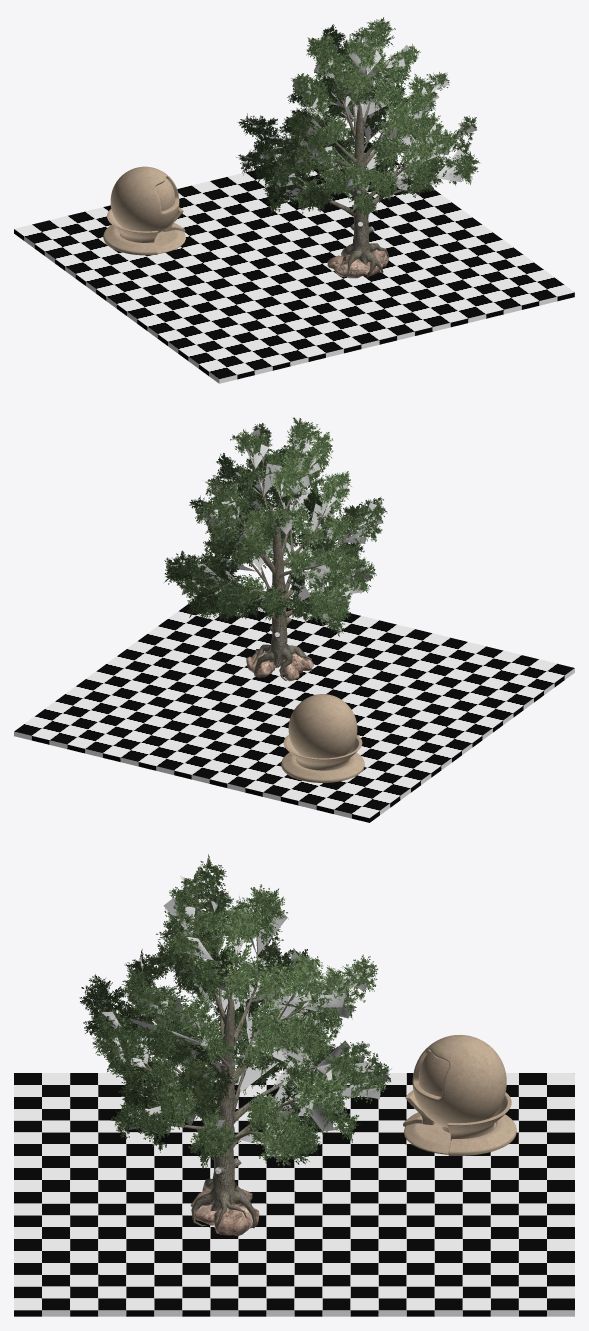
The picture shows the model from 3 angles, top to bottom: view 1: azimuth 30°, elevation 25°; view 2: azimuth 150°, elevation 25°; view 3: azimuth 270°, elevation 25°; orthographic projection. The views are drawn at different scales.
Parts seen in each view (by area): view 1: Podium, tree_SampleLeaves_1, tree_SampleLeaves_2, Mitsuba, tree_SampleBranches, tree_BroadleafBark, tree_Rocks_01; view 2: Podium, tree_SampleLeaves_1, tree_SampleLeaves_2, Mitsuba, tree_SampleBranches, tree_BroadleafBark, tree_Rocks_01; view 3: Podium, tree_SampleLeaves_1, tree_SampleLeaves_2, Mitsuba, tree_SampleBranches, tree_BroadleafBark, tree_Rocks_01.
Boxes of the visible parts, left/top/right/bottom form: Podium: left=14, top=142, right=574, bottom=383; tree_SampleLeaves_1: left=236, top=22, right=479, bottom=218; tree_SampleLeaves_2: left=243, top=17, right=478, bottom=214; Mitsuba: left=103, top=166, right=185, bottom=255; tree_SampleBranches: left=239, top=34, right=476, bottom=211; tree_BroadleafBark: left=261, top=32, right=461, bottom=280; tree_Rocks_01: left=327, top=249, right=388, bottom=278; Podium: left=14, top=588, right=574, bottom=822; tree_SampleLeaves_1: left=164, top=417, right=385, bottom=636; tree_SampleLeaves_2: left=164, top=422, right=387, bottom=625; Mitsuba: left=281, top=694, right=364, bottom=782; tree_SampleBranches: left=168, top=426, right=382, bottom=620; tree_BroadleafBark: left=204, top=438, right=359, bottom=680; tree_Rocks_01: left=246, top=651, right=313, bottom=681; Podium: left=14, top=1073, right=574, bottom=1316; tree_SampleLeaves_1: left=79, top=854, right=391, bottom=1168; tree_SampleLeaves_2: left=81, top=866, right=385, bottom=1167; Mitsuba: left=403, top=1034, right=516, bottom=1155; tree_SampleBranches: left=89, top=878, right=387, bottom=1157; tree_BroadleafBark: left=119, top=898, right=354, bottom=1231; tree_Rocks_01: left=190, top=1188, right=259, bottom=1236.
Size of what is drawn, in the model's own units: 1200 by 840 by 1200.
